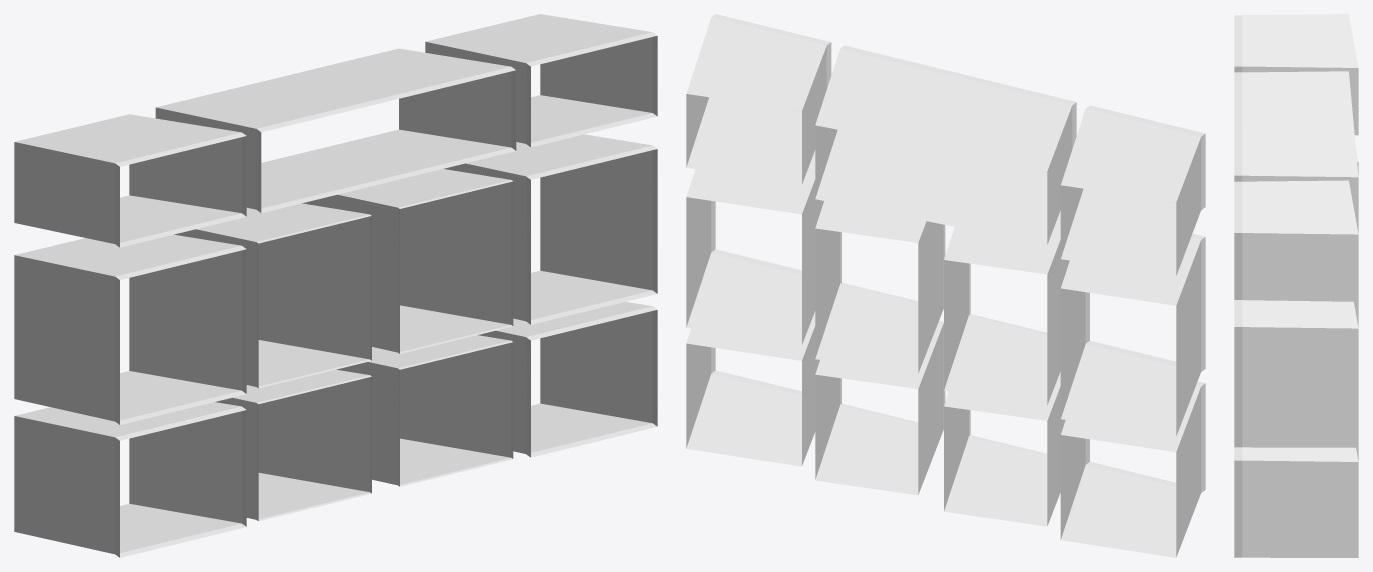
The model's file is set_add_effect_r_door_b.fbx.
3 renders of one model, left to right at view 1: azimuth 30°, elevation 25°; view 2: azimuth 150°, elevation 25°; view 3: azimuth 270°, elevation 25°, orthographic. The views are drawn at different scales.
Visible parts, largest first — view 1: door_b_window_add_effect_r, door_a_02_add_effect_r, door_b_01_add_effect_r; view 2: door_b_window_add_effect_r, door_a_02_add_effect_r, door_b_01_add_effect_r; view 3: door_b_window_add_effect_r.
Boxes of the visible parts, bbox=[...] form: door_b_window_add_effect_r: bbox=[14, 14, 657, 557]; door_a_02_add_effect_r: bbox=[302, 169, 513, 486]; door_b_01_add_effect_r: bbox=[174, 203, 371, 521]; door_b_window_add_effect_r: bbox=[686, 14, 1205, 557]; door_a_02_add_effect_r: bbox=[815, 201, 945, 495]; door_b_01_add_effect_r: bbox=[944, 211, 1069, 526]; door_b_window_add_effect_r: bbox=[1234, 14, 1358, 557].
Size of the model in its own units: 412 by 283 by 92.94.
